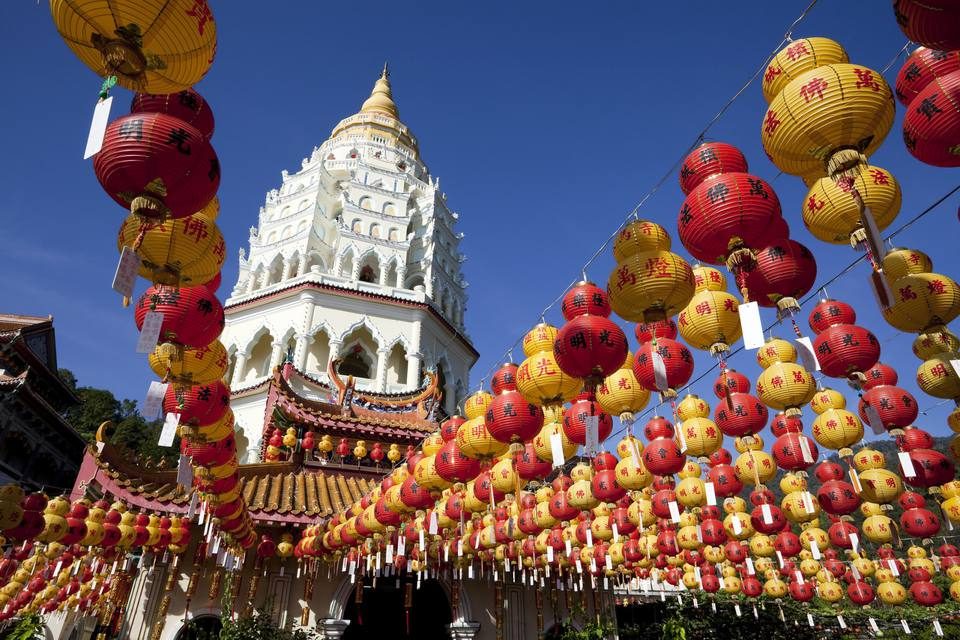Buddhist Temple: (204, 50, 471, 471)
